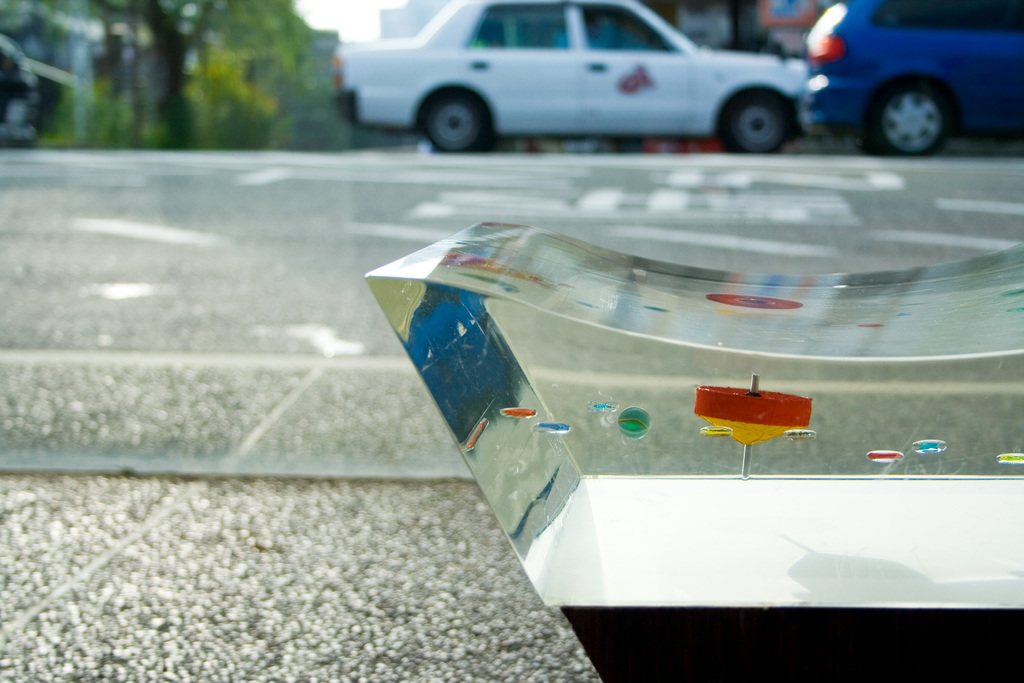Car: (331, 0, 810, 156), (798, 0, 1023, 151)
